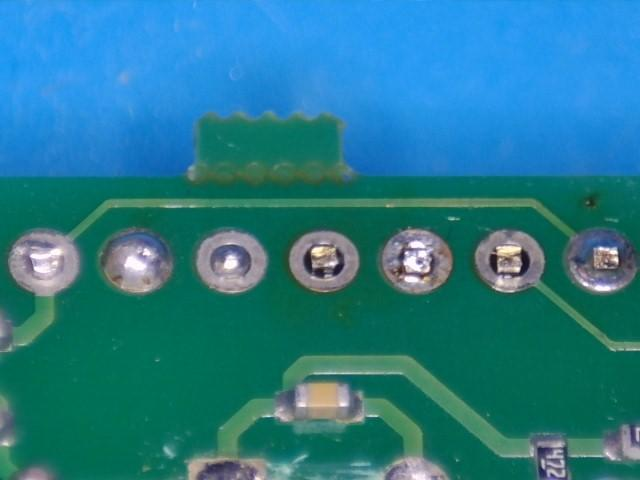Short_circuit: (381, 230, 452, 293), (194, 232, 266, 294), (102, 231, 173, 293)
